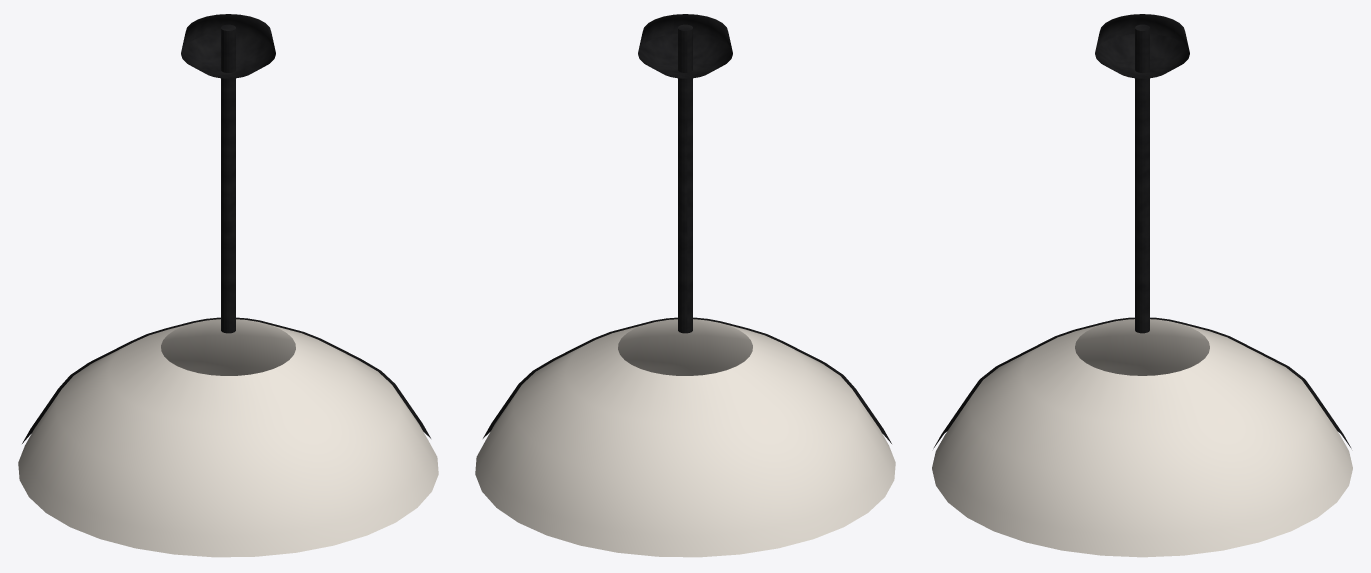
The model's file is PRP_CeilingLamp_Intact.fbx.
The picture shows the model from 3 angles, left to right: view 1: azimuth 30°, elevation 25°; view 2: azimuth 150°, elevation 25°; view 3: azimuth 270°, elevation 25°; orthographic projection.
Visible parts, largest first — view 1: Lamp_Shade, Lamp_Rod; view 2: Lamp_Shade, Lamp_Rod; view 3: Lamp_Shade, Lamp_Rod.
Part boxes in pixels (x1=…): Lamp_Shade: x1=18, y1=317, x2=438, y2=557; Lamp_Rod: x1=181, y1=14, x2=275, y2=333; Lamp_Shade: x1=475, y1=317, x2=895, y2=557; Lamp_Rod: x1=638, y1=14, x2=732, y2=333; Lamp_Shade: x1=932, y1=317, x2=1352, y2=557; Lamp_Rod: x1=1095, y1=14, x2=1189, y2=333.
Bounding box in the file's own units: 45 × 60 × 45.
